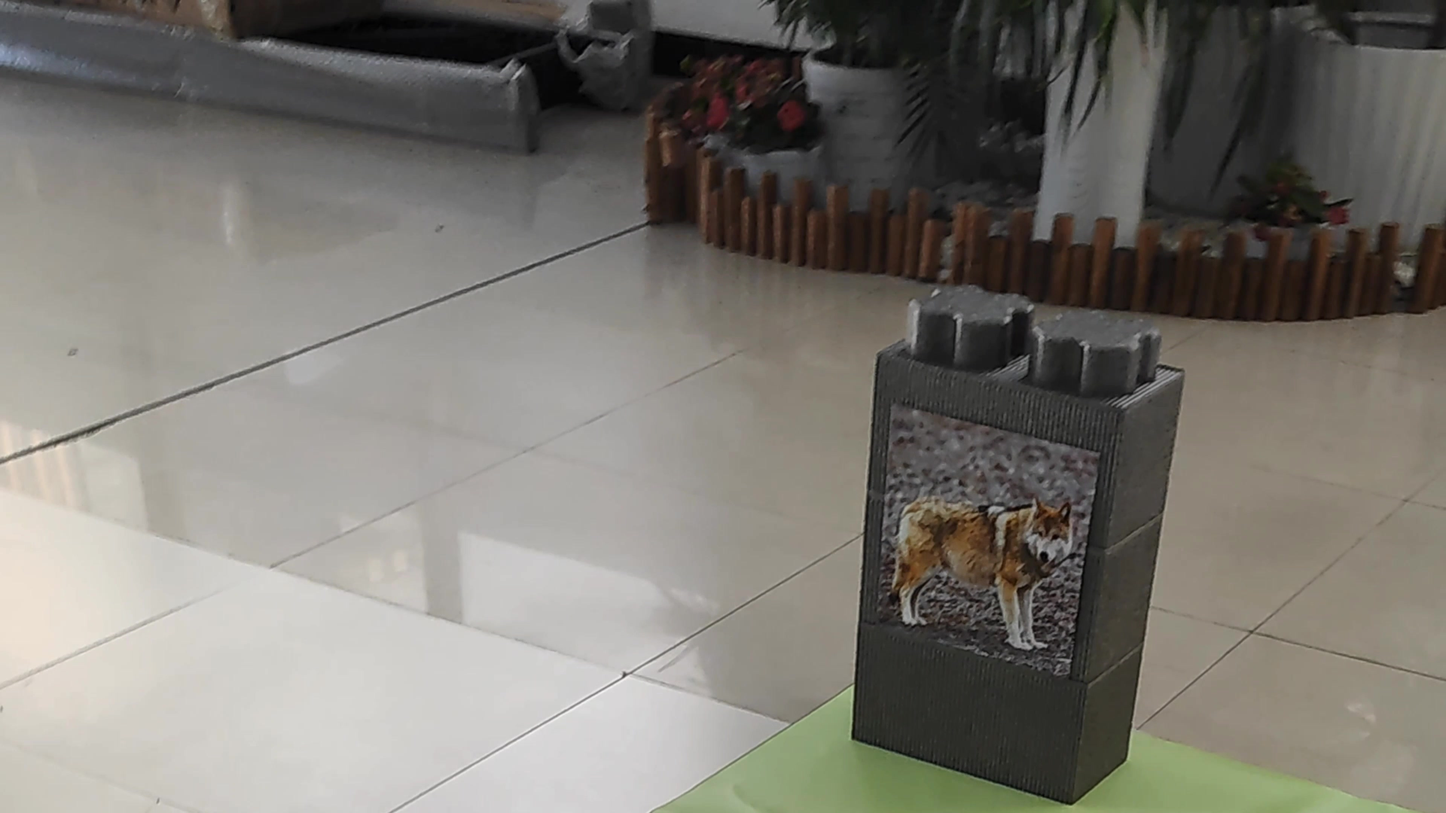wolf: (885, 405, 1083, 655)
